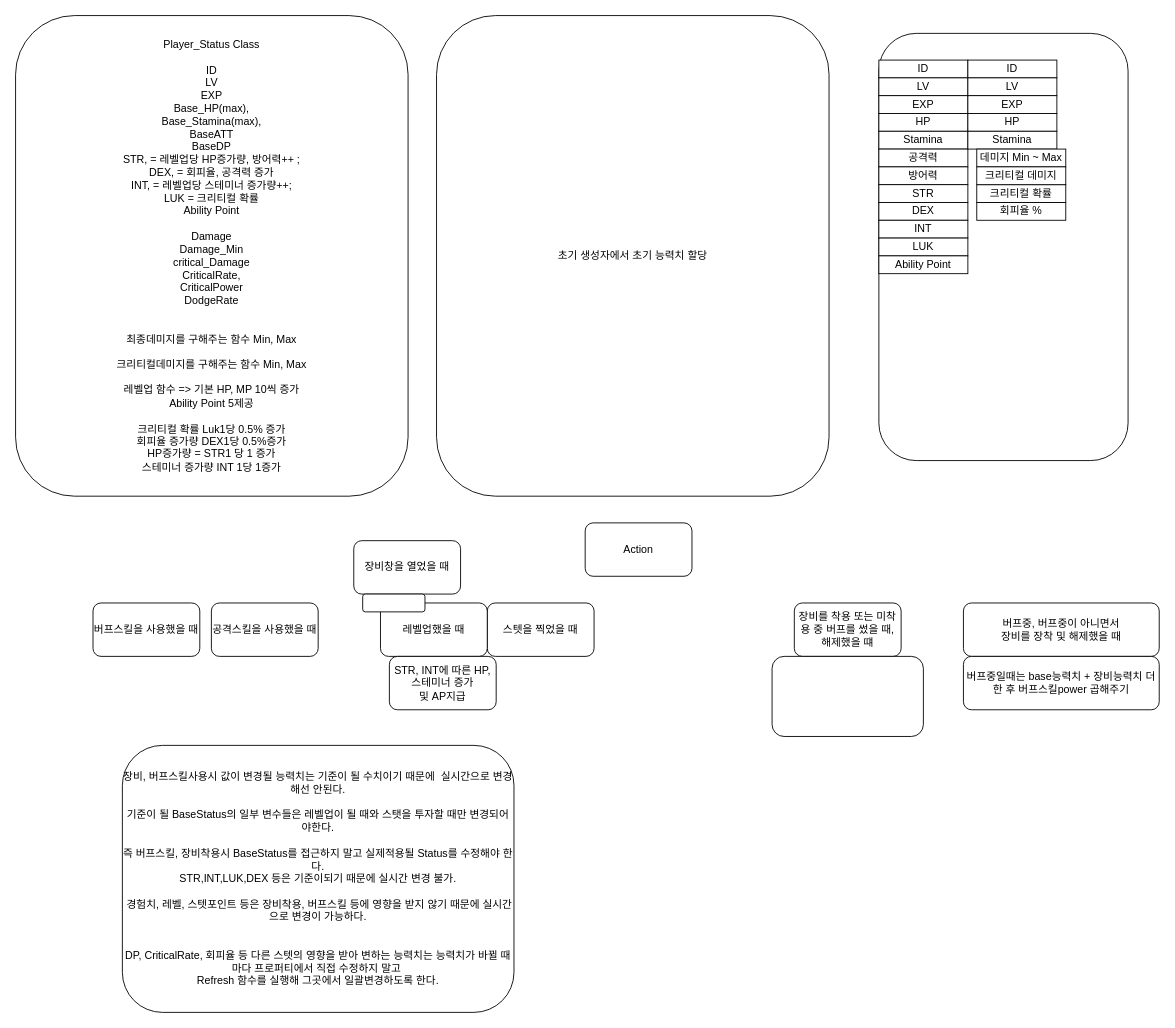
Image size: 1175x1028. Some labels were removed from this diagram. The shapes that lost their labels are listed below. From the top down, each one's centre as x and y in pixels, then its label:
At [393,602]: "Open".
At [847,695]: "버프중이면 base능력치 + 장비능력치 * 버프스킬파워".
